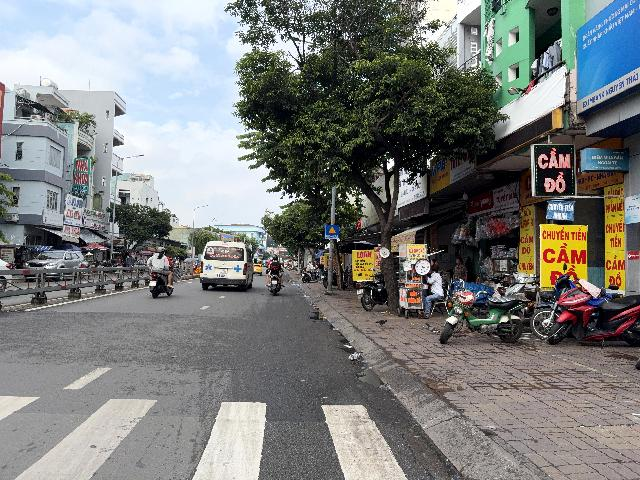khu-vuc-cho-phia-truoc: (325, 225, 340, 239)
